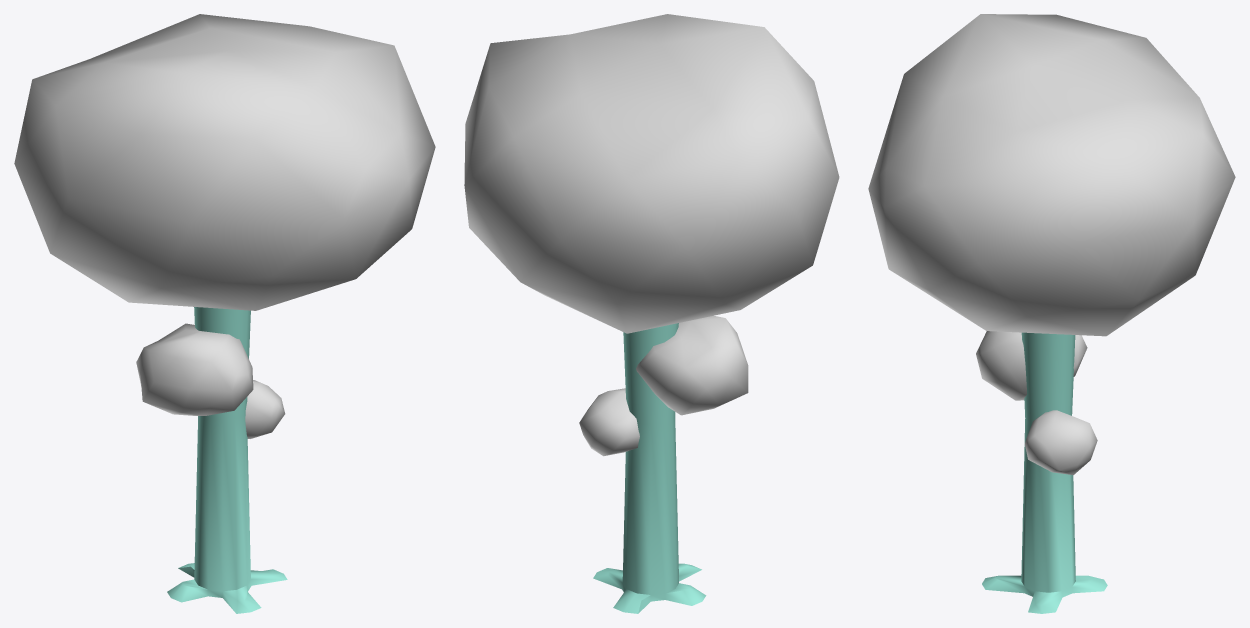
The model's file is Tree1.fbx.
3 renders of one model, left to right at view 1: azimuth 30°, elevation 25°; view 2: azimuth 150°, elevation 25°; view 3: azimuth 270°, elevation 25°, orthographic. The views are drawn at different scales.
Visible parts, largest first — view 1: Icosphere.002; view 2: Icosphere.002; view 3: Icosphere.002.
Part boxes in pixels (x1,y1,x2,y2): Icosphere.002: [14, 14, 435, 613]; Icosphere.002: [464, 14, 839, 613]; Icosphere.002: [868, 14, 1235, 613].
Size of the model in its own units: 2.9 by 4.36 by 2.7.
